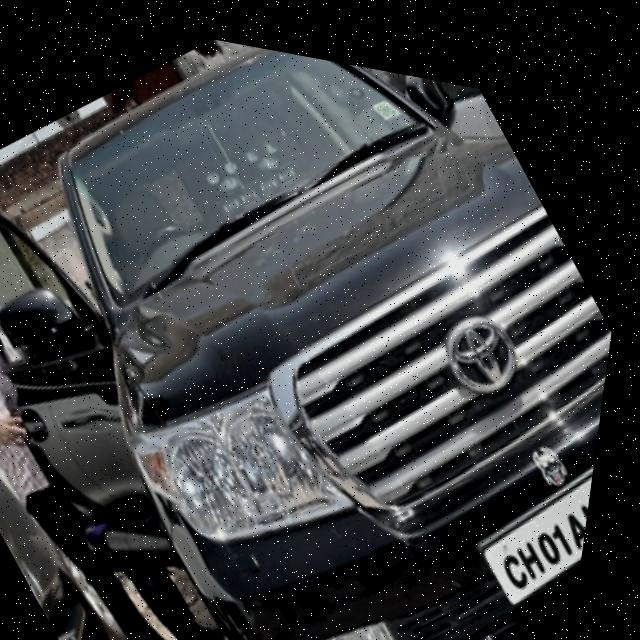license_plate: (466, 378, 608, 604)
